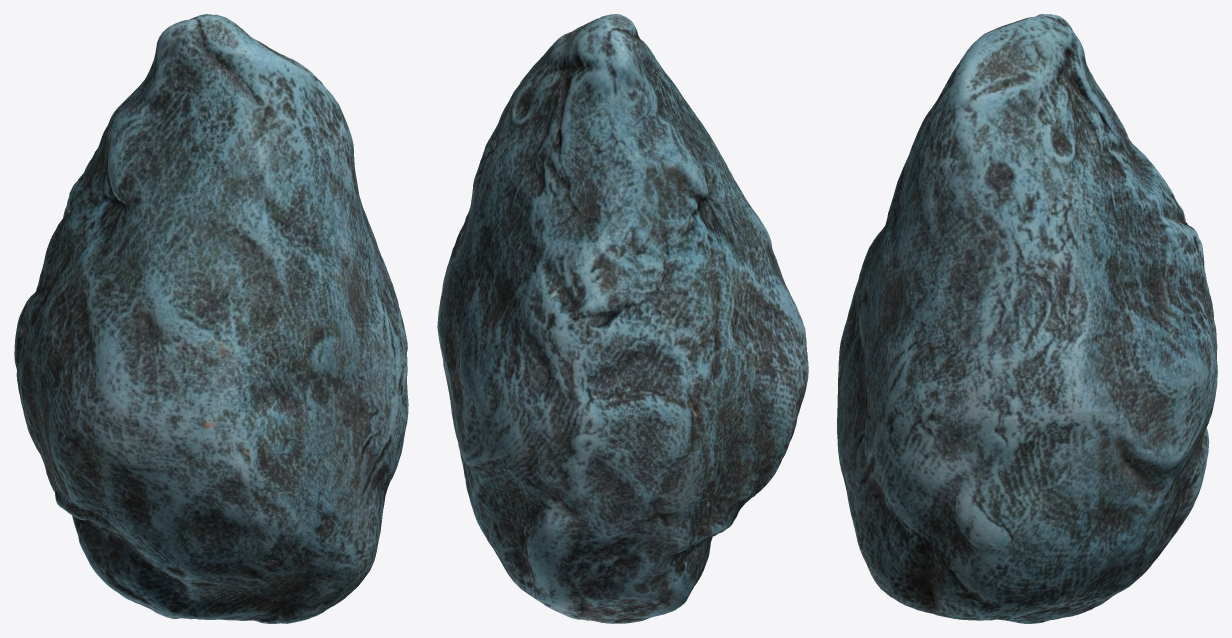
Rendered from env_ore_diamond_mesh_v1.glb.
The picture shows the model from 3 angles, left to right: view 1: azimuth 30°, elevation 25°; view 2: azimuth 150°, elevation 25°; view 3: azimuth 270°, elevation 25°; orthographic projection.
Parts seen in each view (by area): view 1: blueore; view 2: blueore; view 3: blueore.
Boxes of the visible parts, x1,y1,x2,y2 form: blueore: (14, 14, 408, 623); blueore: (437, 14, 808, 623); blueore: (837, 14, 1217, 623).
Bounding box in the file's own units: 0.7626 × 1.31 × 0.7528.
Materials: 1 (1 with a texture image).
